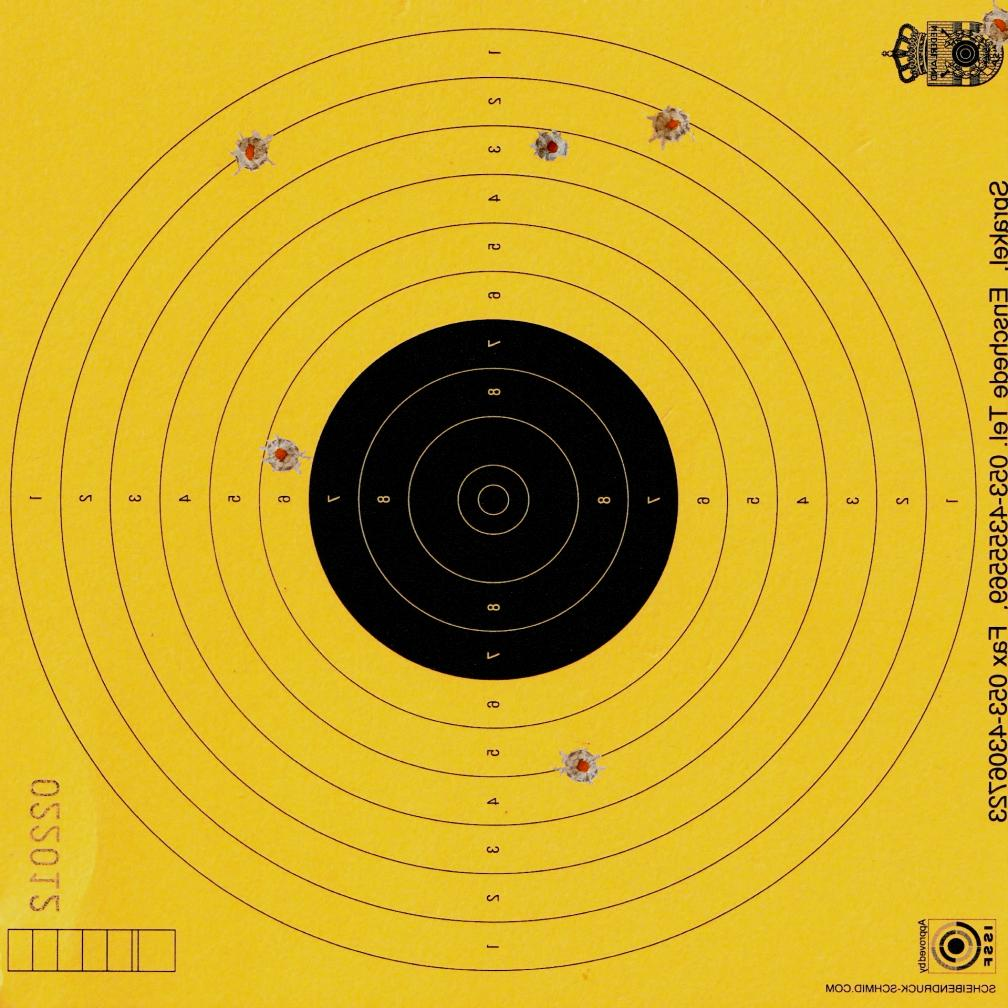0: (982, 0, 1008, 54)
2: (229, 132, 286, 176), (649, 105, 700, 148)
3: (528, 125, 574, 165)
5: (560, 741, 603, 790)
6: (258, 434, 318, 473)
Target: (5, 24, 981, 980)
black_contour: (308, 318, 680, 681)
